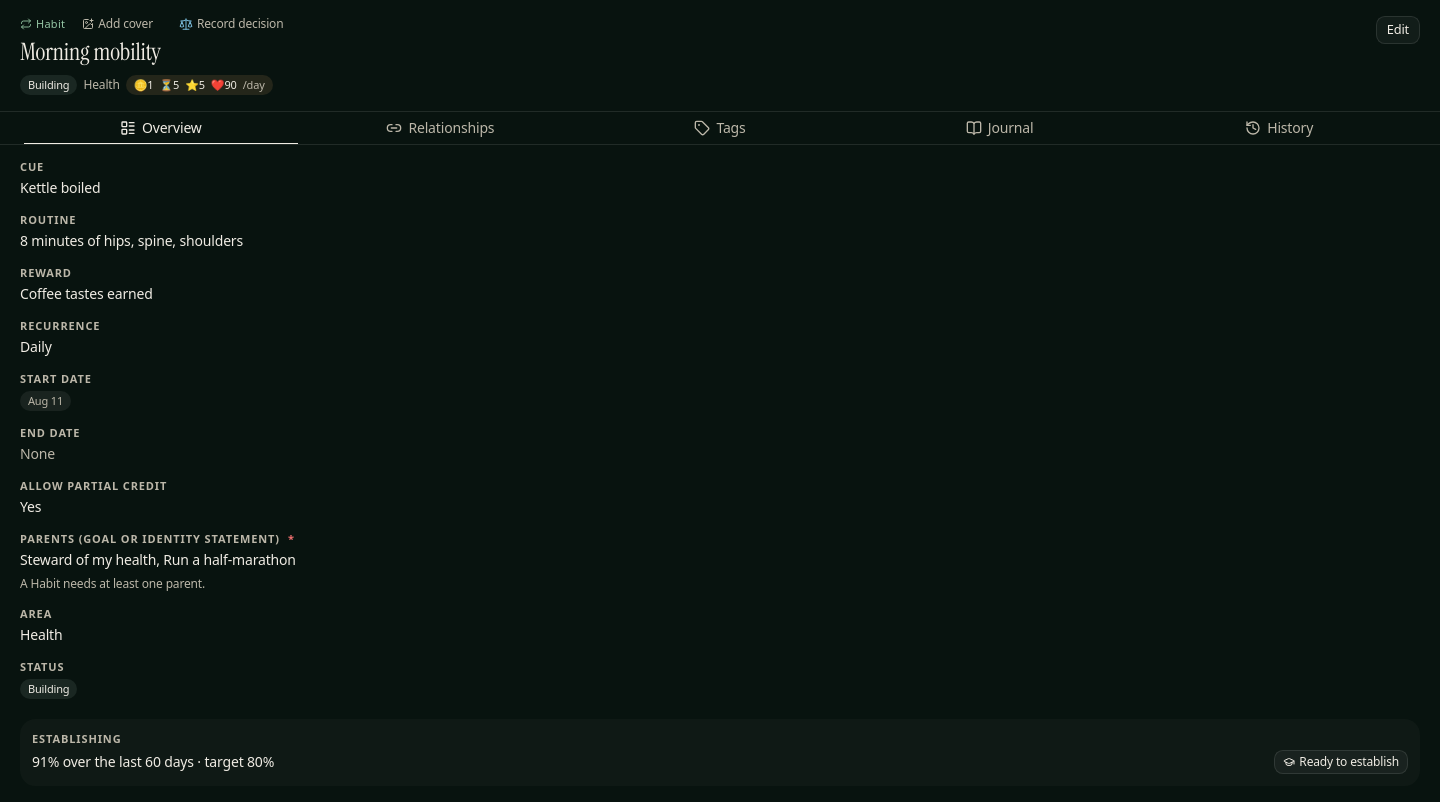
Test: bounty and establishing in the detail pane › suggests establishing a habit that met its target, and confirming graduates it
The width and height of the screenshot is (1440, 802).
Check: the heading "Morning mobility" is shown, box [20,36,161,66]
Click the button with aria-label "Ready to establish Morning mobility".
click(1341, 762)  # box [1274,750,1408,774]
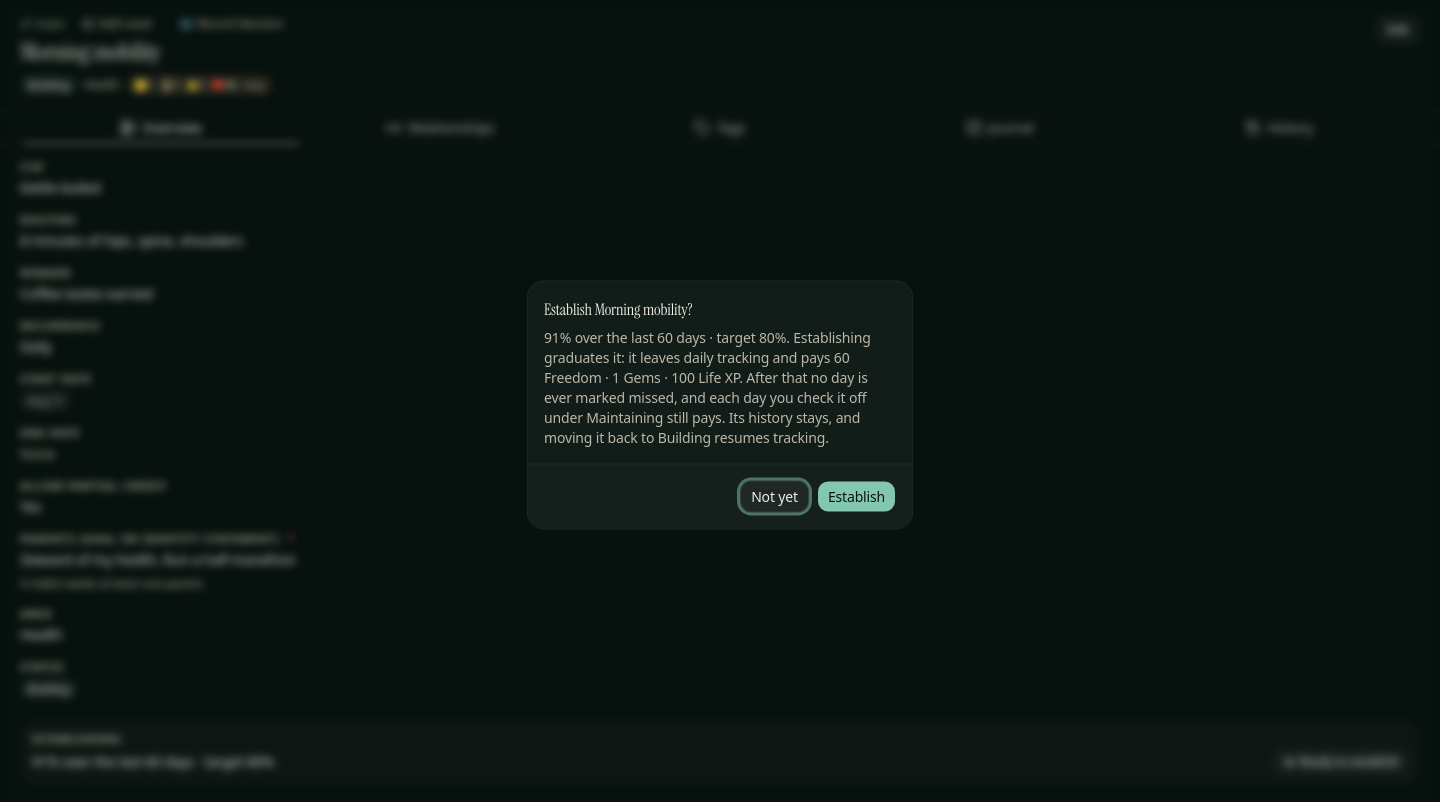
Check: the dialog shows "over the last 60 days · target 80%", box [544,328,793,346]
Check: the dialog shows "pays 60 Freedom · 1 Gems · 100 Life XP", box [544,348,850,386]
Click the button "Establish".
click(856, 496)  # box [817,480,896,512]
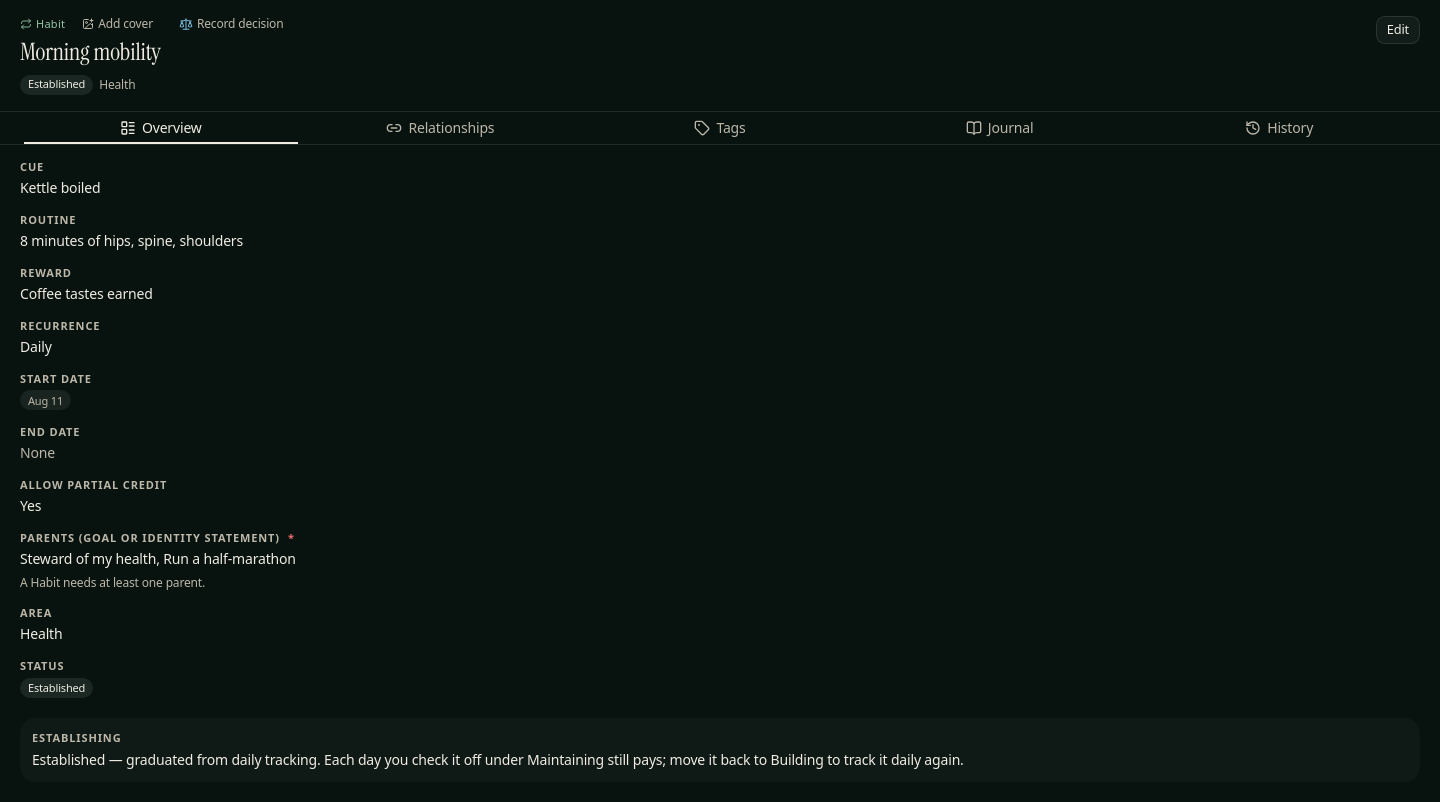
Check: the text "Established" below "Morning mobility" is shown, box [28,76,85,91]
Check: the text "graduated from daily tracking" is shown, box [32,750,964,769]
